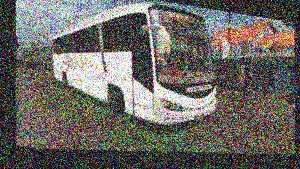bus: (34, 0, 234, 150)
